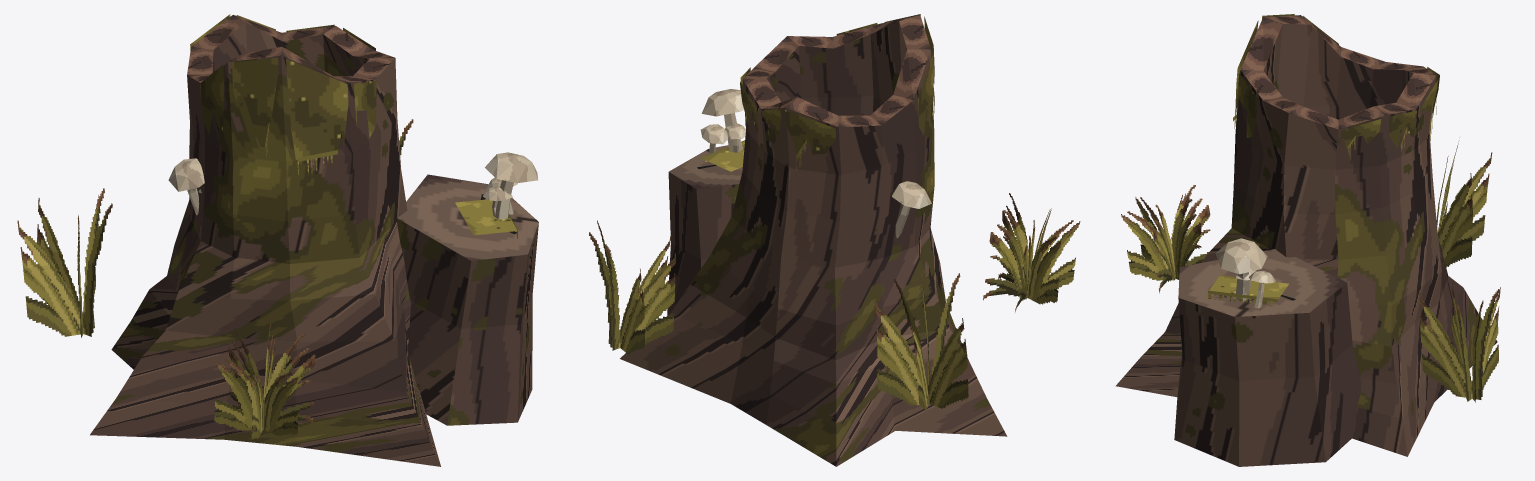
File: SM_SW12_StumpTallHollow.fbx
3 views of the same model, side by side, from view 1: azimuth 30°, elevation 25°; view 2: azimuth 150°, elevation 25°; view 3: azimuth 270°, elevation 25° (orthographic). The views are drawn at different scales.
Parts seen in each view (by area): view 1: SW12b_Bark, SW12b_Plants, SW12b_Moss, SW12b_Props, SW12b_Fungus; view 2: SW12b_Bark, SW12b_Plants, SW12b_Props, SW12b_Moss, SW12b_Fungus; view 3: SW12b_Bark, SW12b_Plants, SW12b_Props, SW12b_Moss, SW12b_Fungus.
Part boxes in pixels (x1,y1,x2,y2): SW12b_Bark: (90, 22, 538, 466); SW12b_Plants: (17, 119, 517, 439); SW12b_Moss: (190, 14, 517, 235); SW12b_Props: (187, 15, 538, 260); SW12b_Fungus: (168, 152, 537, 219); SW12b_Bark: (620, 21, 1007, 466); SW12b_Plants: (589, 88, 1080, 411); SW12b_Props: (669, 15, 930, 189); SW12b_Moss: (702, 14, 934, 171); SW12b_Fungus: (700, 89, 931, 238); SW12b_Bark: (1115, 23, 1497, 466); SW12b_Plants: (1121, 100, 1500, 402); SW12b_Props: (1178, 15, 1436, 316); SW12b_Moss: (1209, 14, 1439, 299); SW12b_Fungus: (1215, 238, 1275, 308).
Size of the model in its own units: 1.66 by 1.48 by 1.58.
